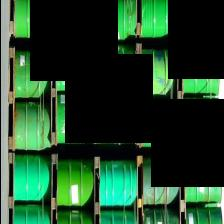green: (182, 98, 219, 146), (98, 94, 134, 143), (13, 102, 49, 151), (56, 93, 91, 143), (182, 48, 219, 94), (99, 161, 136, 207), (185, 156, 221, 203), (141, 99, 177, 146), (13, 155, 49, 202), (13, 51, 49, 98), (56, 161, 92, 207), (56, 43, 91, 90), (98, 46, 134, 90), (141, 49, 174, 95), (99, 0, 134, 40), (13, 0, 50, 37), (141, 0, 177, 37), (57, 0, 91, 37), (183, 0, 219, 33), (142, 158, 165, 205), (13, 205, 49, 224), (185, 208, 221, 224), (56, 210, 92, 224), (99, 211, 136, 224)
